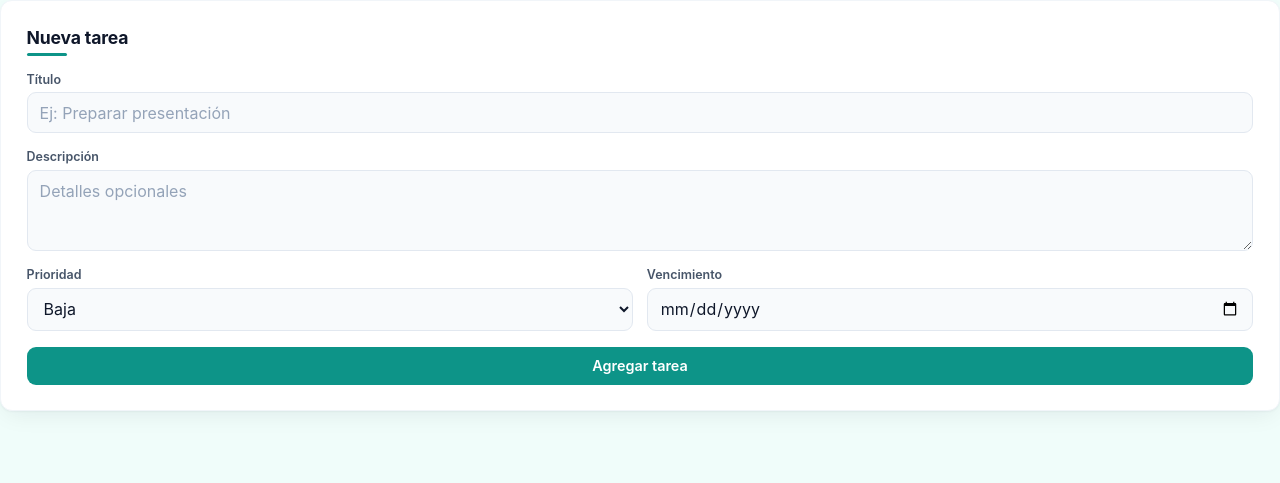
TaskForm › shows validation error when submitting with empty title
The width and height of the screenshot is (1280, 483).
What coordinates should you click on to do the following:
click the button "Agregar tarea"
I would click on:
 (640, 366)
Its box is top-left (27, 347), bottom-right (1253, 385).
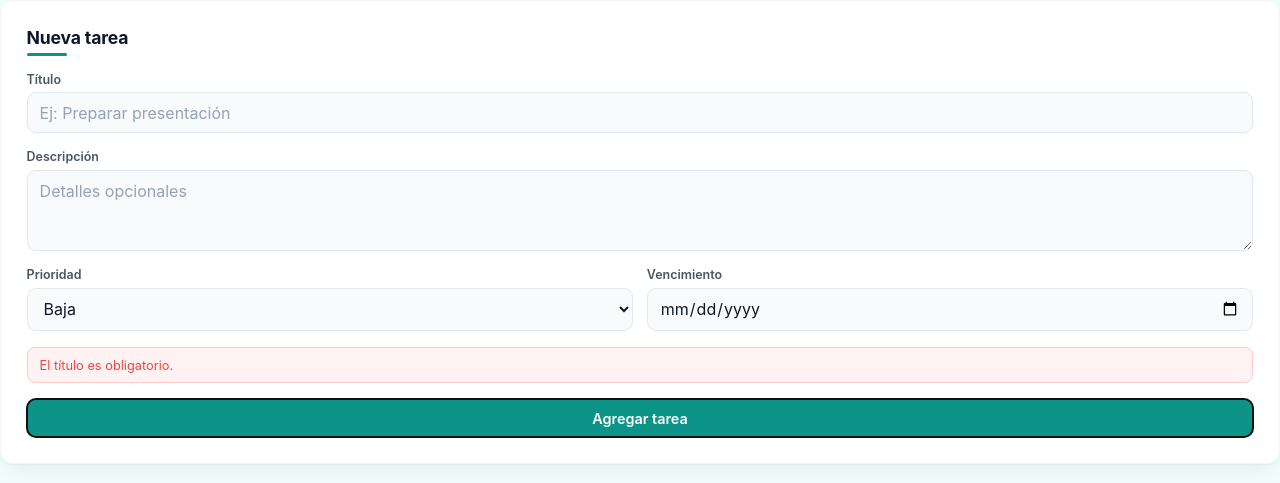
Now the text "El título es obligatorio." is shown, box top-left (27, 347), bottom-right (1253, 383)
